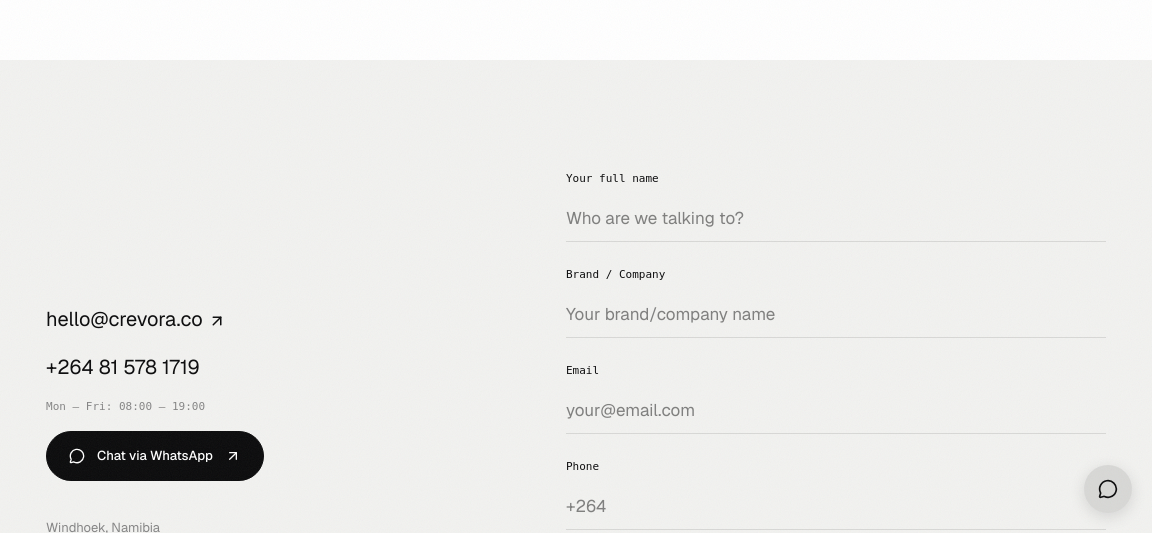
Test: public navigation and contact form › saves a valid enquiry and provides a WhatsApp continuation link
The width and height of the screenshot is (1152, 533).
(page scrolled)
Type "Ada Lovelace" into the field with placeholder "Who are we talking to?" at (836, 218), box 566,194 -> 1106,242
Type "Analytical Engines" into the field with placeholder "Your brand/company name" at (836, 314), box 566,290 -> 1106,338
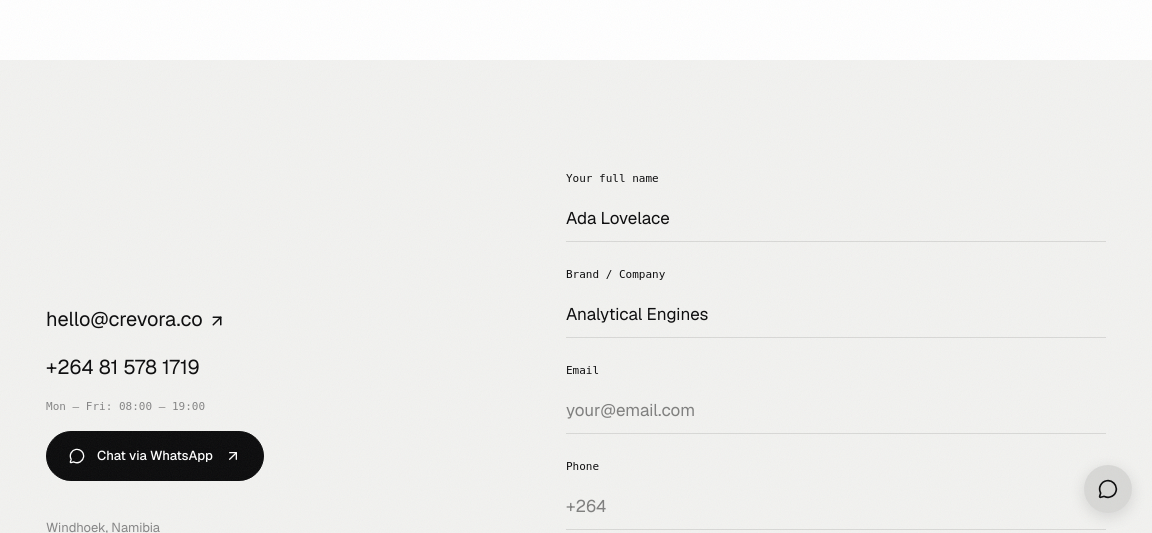
Type "ada@example.com" into the field with placeholder "your@email.com" at (836, 410), box 566,386 -> 1106,434
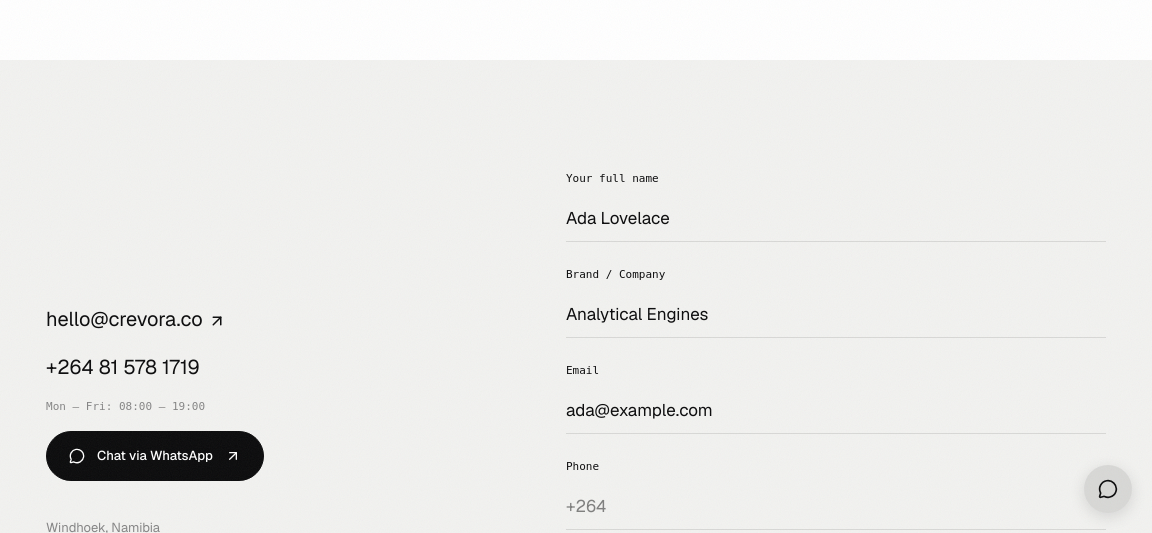
Type "+264 81 123 4567" into the field with placeholder "+264" at (836, 506), box 566,482 -> 1106,530
(page scrolled)
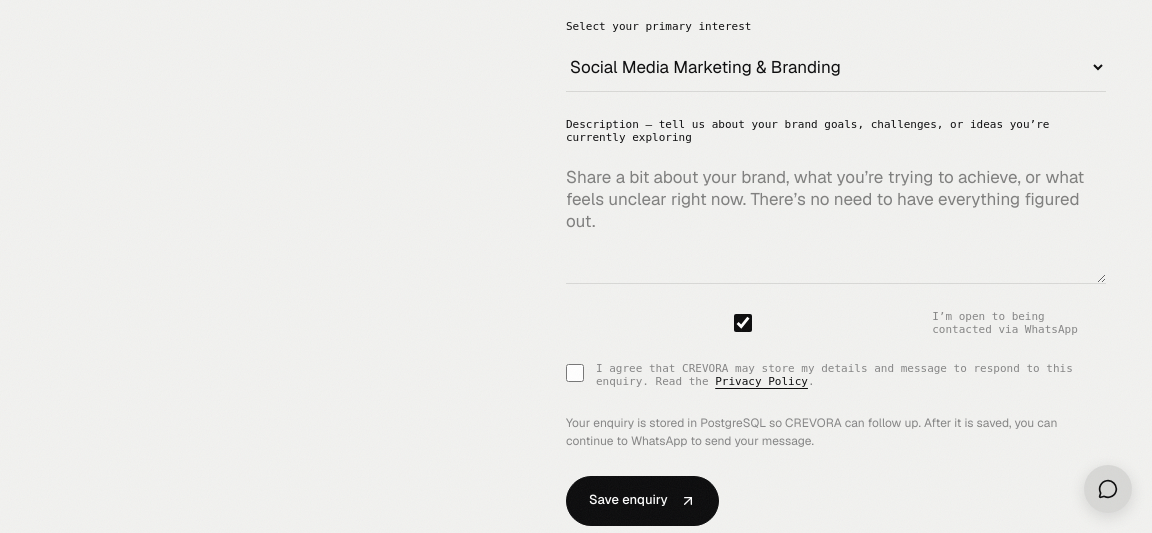
Replace the text in the text box with placeholder "Share a bit about your brand, what you’re trying to achieve, or what feels unclear right now. There’s no need to have ev" with "We are building a new brand and would like to talk." at (836, 218), box 566,154 -> 1106,284
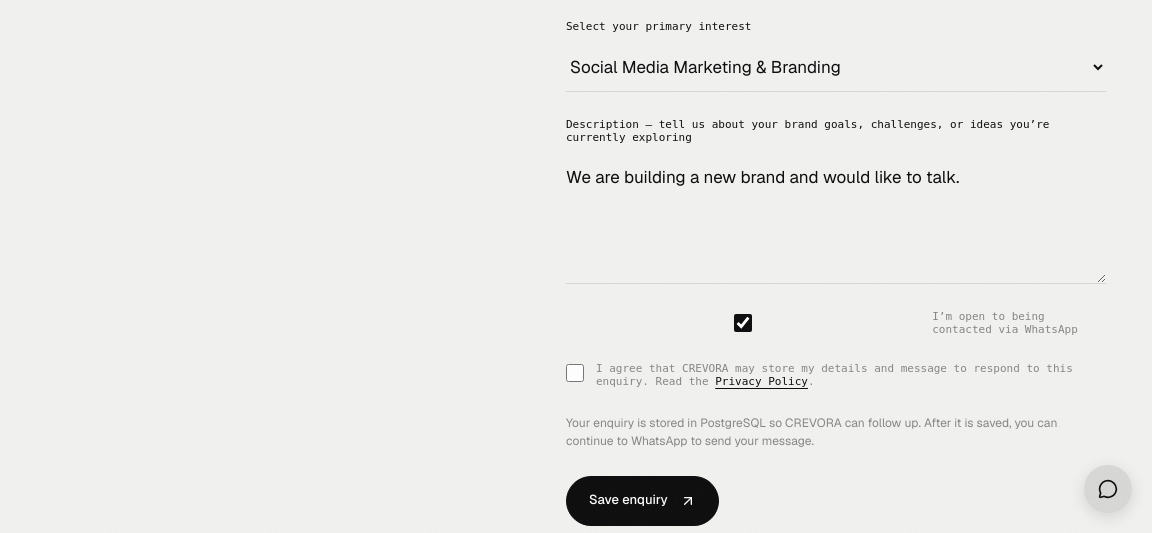
Click the checkbox labelled "I agree that CREVORA may store my details" at (575, 372), box 566,364 -> 584,382
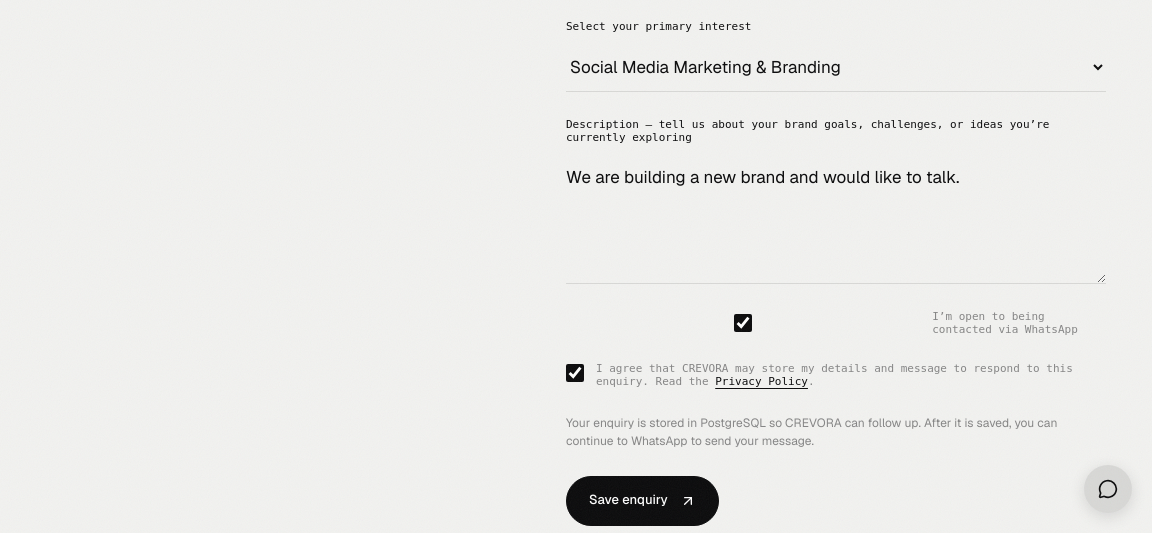
Click the button "Save enquiry" at (642, 500), box 566,476 -> 719,526
(page scrolled)
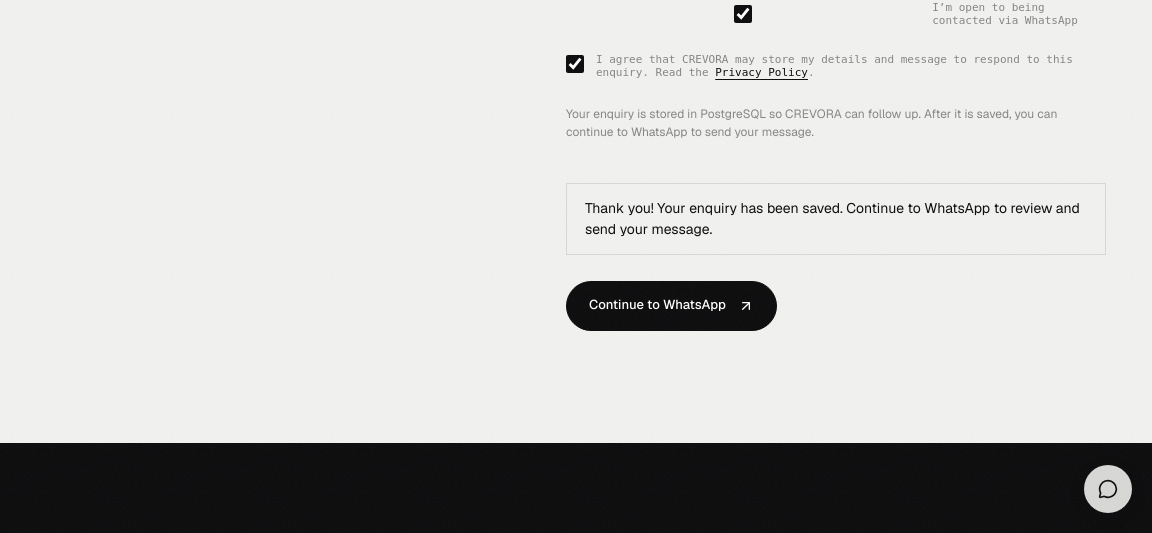
Check: the text "Thank you! Your enquiry has been saved. Continue to WhatsApp to review and send your message." is shown, box 585,198 -> 1080,238
